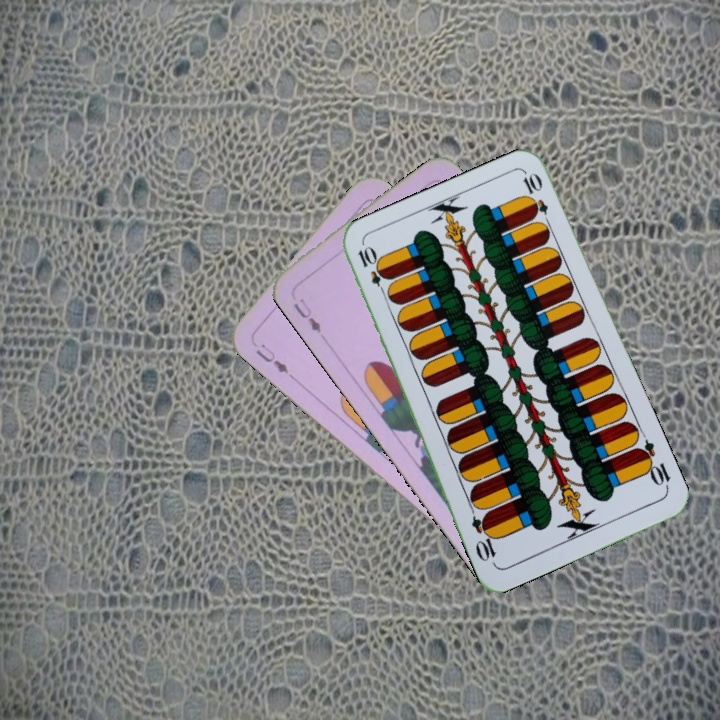E10: (632, 436, 673, 492), (353, 242, 391, 299)
EU: (289, 294, 327, 341), (251, 340, 291, 376)
